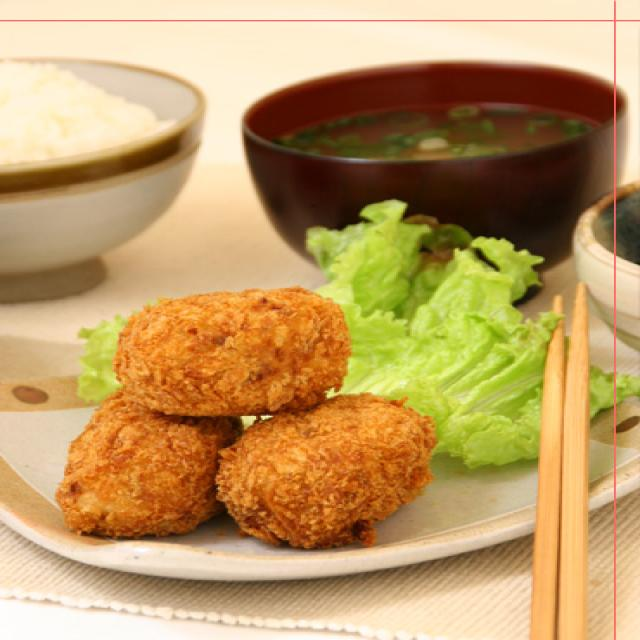炸货点心: (43, 282, 434, 562)
